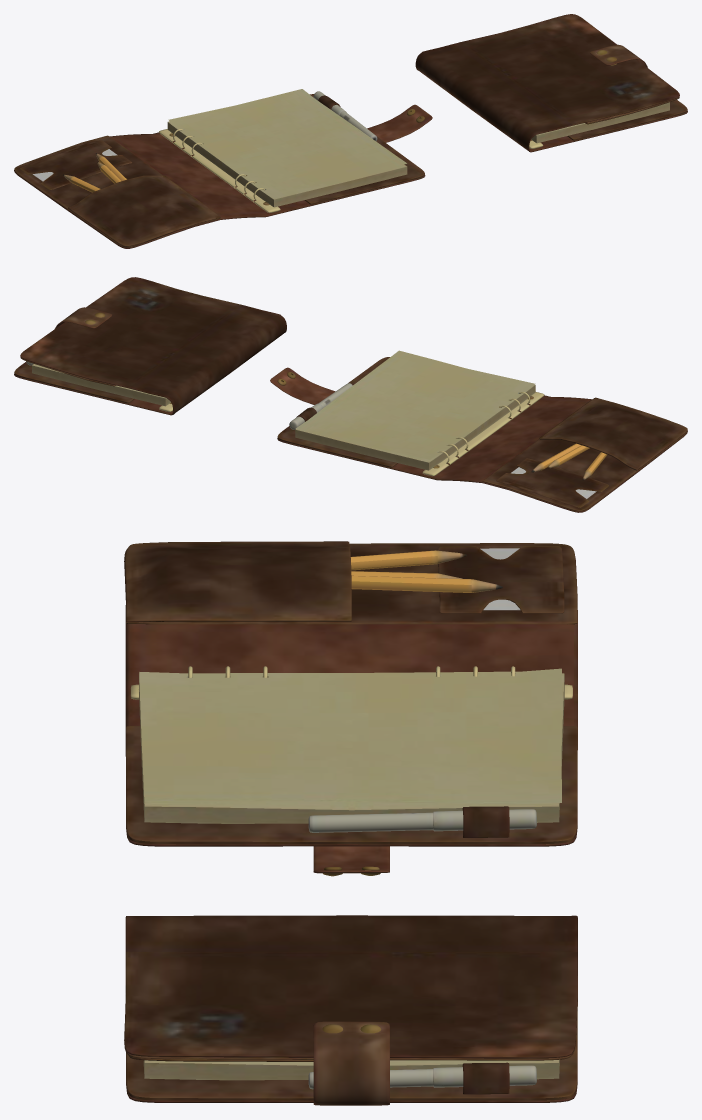
File: binder_notebook.gltf
The picture shows the model from 3 angles, top to bottom: view 1: azimuth 30°, elevation 25°; view 2: azimuth 150°, elevation 25°; view 3: azimuth 270°, elevation 25°; orthographic projection. The views are drawn at different scales.
Visible parts, largest first — view 1: binder_notebook, binder_notebook_closed; view 2: binder_notebook, binder_notebook_closed; view 3: binder_notebook, binder_notebook_closed.
Boxes of the visible parts, <box> form: binder_notebook: <box>14,89,432,248</box>; binder_notebook_closed: <box>415,14,687,152</box>; binder_notebook: <box>270,350,687,512</box>; binder_notebook_closed: <box>14,277,286,415</box>; binder_notebook: <box>124,541,577,876</box>; binder_notebook_closed: <box>124,915,577,1105</box>.
Bounding box in the file's own units: 0.584 × 0.0253 × 0.2.
1 material, 1 textured.
